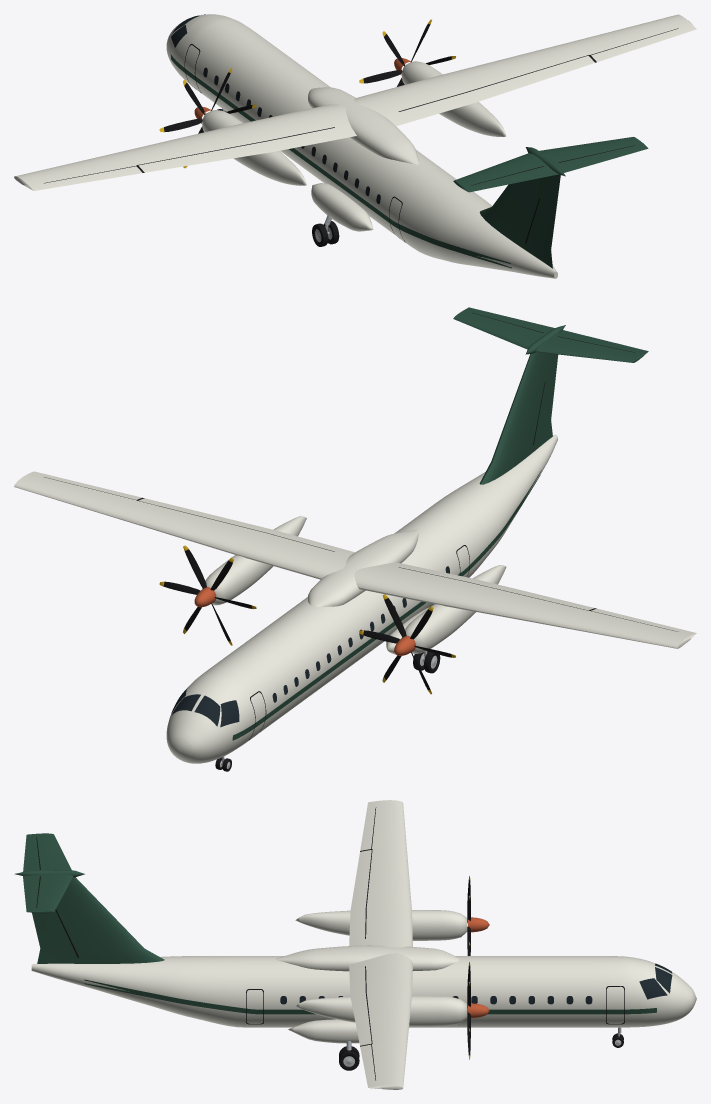
File: trafico-turbohelice.glb
The picture shows the model from 3 angles, top to bottom: view 1: azimuth 30°, elevation 25°; view 2: azimuth 150°, elevation 25°; view 3: azimuth 270°, elevation 25°; orthographic projection. The views are drawn at different scales.
Parts seen in each view (by area): view 1: fuselaje, ala, deriva, estabilizador, gondola, lomo, cintura, carenado-tren, helice-derecha-palas, helice-izquierda-palas, ventanillas, rueda-principal; view 2: fuselaje, ala, deriva, gondola, estabilizador, lomo, cintura, parabrisas, helice-derecha-palas, helice-izquierda-palas; view 3: fuselaje, ala, deriva, gondola, estabilizador, lomo, cintura, carenado-tren, parabrisas, ventanillas.
Boxes of the visible parts, x1=… form: fuselaje: x1=166, y1=14, x2=557, y2=278; ala: x1=14, y1=14, x2=696, y2=190; deriva: x1=479, y1=174, x2=560, y2=268; estabilizador: x1=453, y1=137, x2=648, y2=192; gondola: x1=202, y1=61, x2=506, y2=185; lomo: x1=308, y1=87, x2=419, y2=164; cintura: x1=170, y1=54, x2=511, y2=268; carenado-tren: x1=311, y1=183, x2=373, y2=231; helice-derecha-palas: x1=363, y1=24, x2=451, y2=86; helice-izquierda-palas: x1=164, y1=72, x2=252, y2=133; ventanillas: x1=203, y1=67, x2=380, y2=203; rueda-principal: x1=312, y1=221, x2=339, y2=246; fuselaje: x1=166, y1=434, x2=557, y2=763; ala: x1=14, y1=471, x2=696, y2=648; deriva: x1=479, y1=352, x2=558, y2=484; gondola: x1=202, y1=516, x2=506, y2=653; estabilizador: x1=453, y1=307, x2=648, y2=362; lomo: x1=308, y1=529, x2=419, y2=606; cintura: x1=232, y1=470, x2=541, y2=740; parabrisas: x1=171, y1=689, x2=239, y2=727; helice-derecha-palas: x1=163, y1=549, x2=252, y2=641; helice-izquierda-palas: x1=363, y1=598, x2=451, y2=689; fuselaje: x1=31, y1=956, x2=696, y2=1027; ala: x1=349, y1=800, x2=412, y2=1089; deriva: x1=32, y1=877, x2=164, y2=963; gondola: x1=295, y1=910, x2=467, y2=1026; estabilizador: x1=23, y1=833, x2=73, y2=913; lomo: x1=275, y1=945, x2=459, y2=971; cintura: x1=84, y1=979, x2=656, y2=1014; carenado-tren: x1=288, y1=1019, x2=359, y2=1043; parabrisas: x1=639, y1=963, x2=672, y2=999; ventanillas: x1=280, y1=996, x2=592, y2=1004.
Size of the model in its own units: 27.09 by 7.71 by 27.2.
